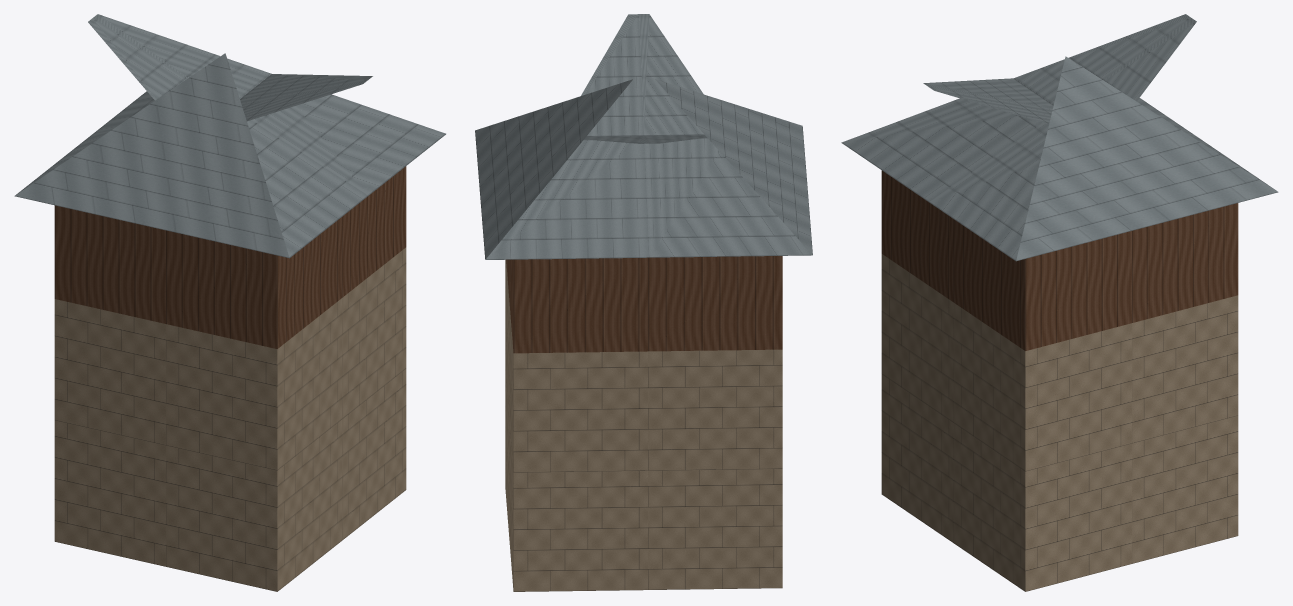
Rendered from bld_c7_16_425.gltf.
The picture shows the model from 3 angles, left to right: view 1: azimuth 30°, elevation 25°; view 2: azimuth 150°, elevation 25°; view 3: azimuth 270°, elevation 25°; orthographic projection.
Visible parts, largest first — view 1: bld_c7_16_425; view 2: bld_c7_16_425; view 3: bld_c7_16_425.
Boxes of the visible parts, x1,y1,x2,y2 form: bld_c7_16_425: [14, 14, 445, 591]; bld_c7_16_425: [475, 14, 812, 591]; bld_c7_16_425: [841, 14, 1278, 591].
Size of the model in its own units: 7.53 by 8.65 by 7.42.
Materials: 3 (3 with a texture image).
